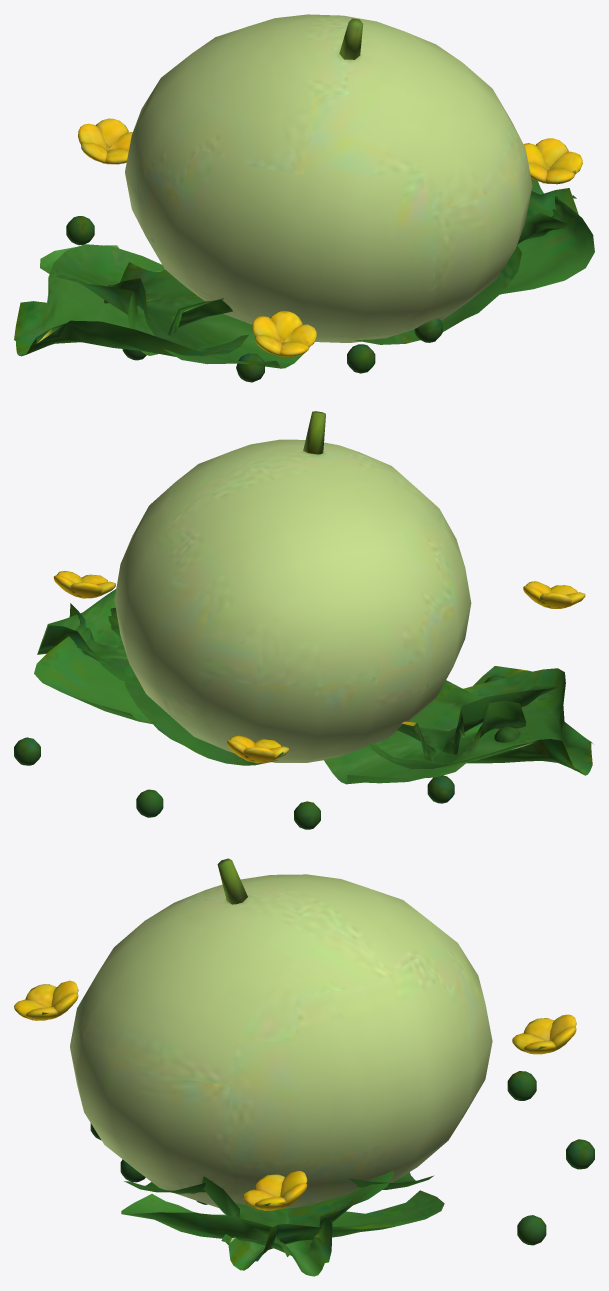
The model's file is crop_honeydew.glb.
The picture shows the model from 3 angles, top to bottom: view 1: azimuth 30°, elevation 25°; view 2: azimuth 150°, elevation 25°; view 3: azimuth 270°, elevation 25°; orthographic projection. The views are drawn at different scales.
Parts seen in each view (by area): view 1: fruit, crop_honeydew; view 2: fruit, crop_honeydew; view 3: fruit, crop_honeydew.
Boxes of the visible parts, <box> form: fruit: <box>125,14,532,342</box>; crop_honeydew: <box>14,18,594,382</box>; fruit: <box>114,439,471,762</box>; crop_honeydew: <box>14,411,592,829</box>; fruit: <box>70,874,492,1208</box>; crop_honeydew: <box>14,858,594,1276</box>.
Size of the model in its own units: 0.307 by 0.1681 by 0.2669.
1 material, 1 textured.
